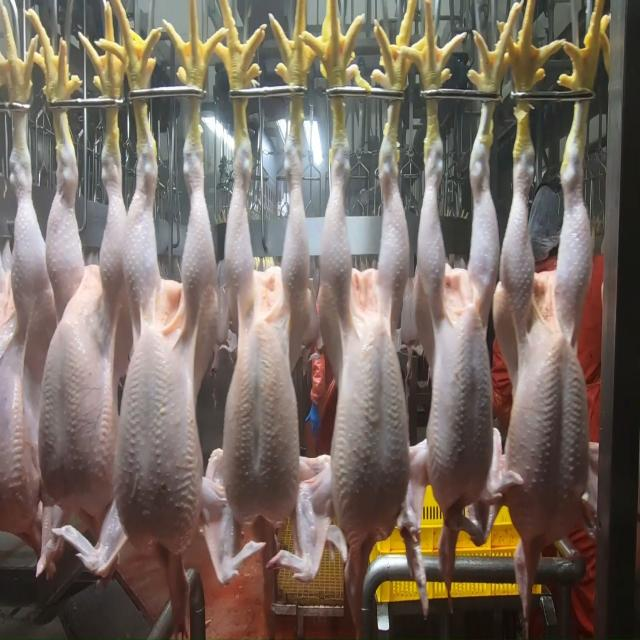chicken: (116, 180, 224, 538), (315, 194, 415, 548), (495, 206, 596, 545), (219, 201, 314, 526), (412, 201, 499, 525), (48, 171, 125, 532), (3, 143, 48, 525)
